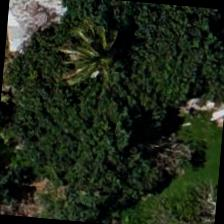Kelapa_Sawit: (48, 11, 146, 110)
